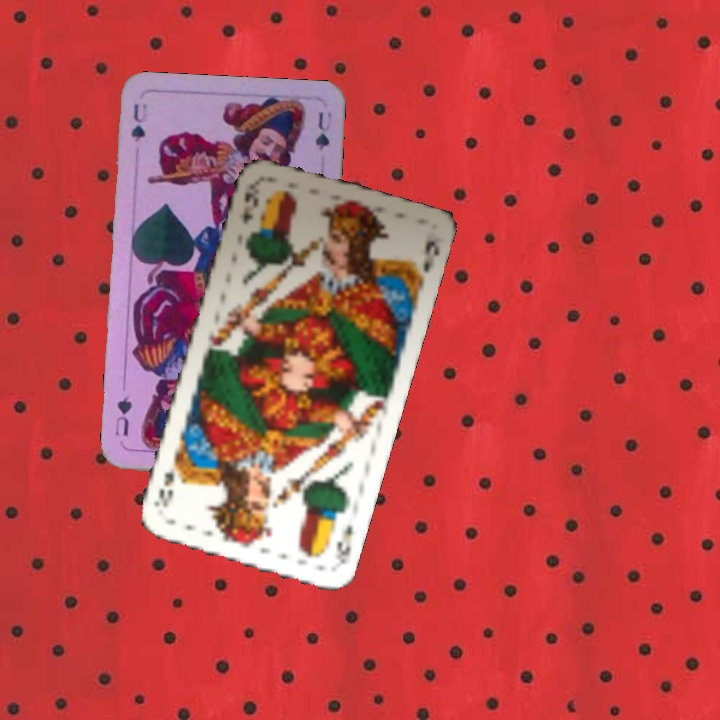EK: (331, 520, 356, 569), (238, 187, 261, 227)
GU: (126, 99, 150, 144)
